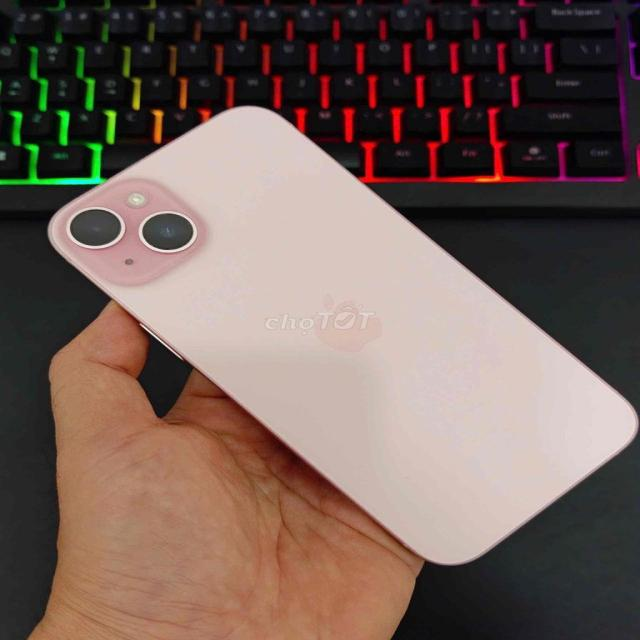gen_15: (30, 96, 637, 579)
